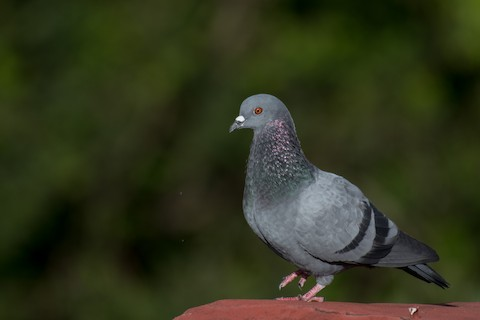pigeon: (226, 90, 453, 306)
